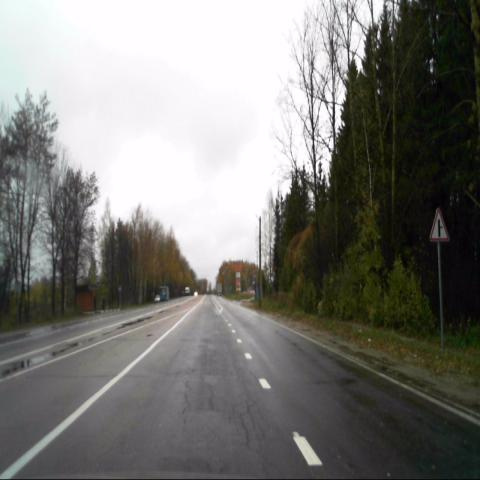2_3_2: (428, 207, 449, 244)
